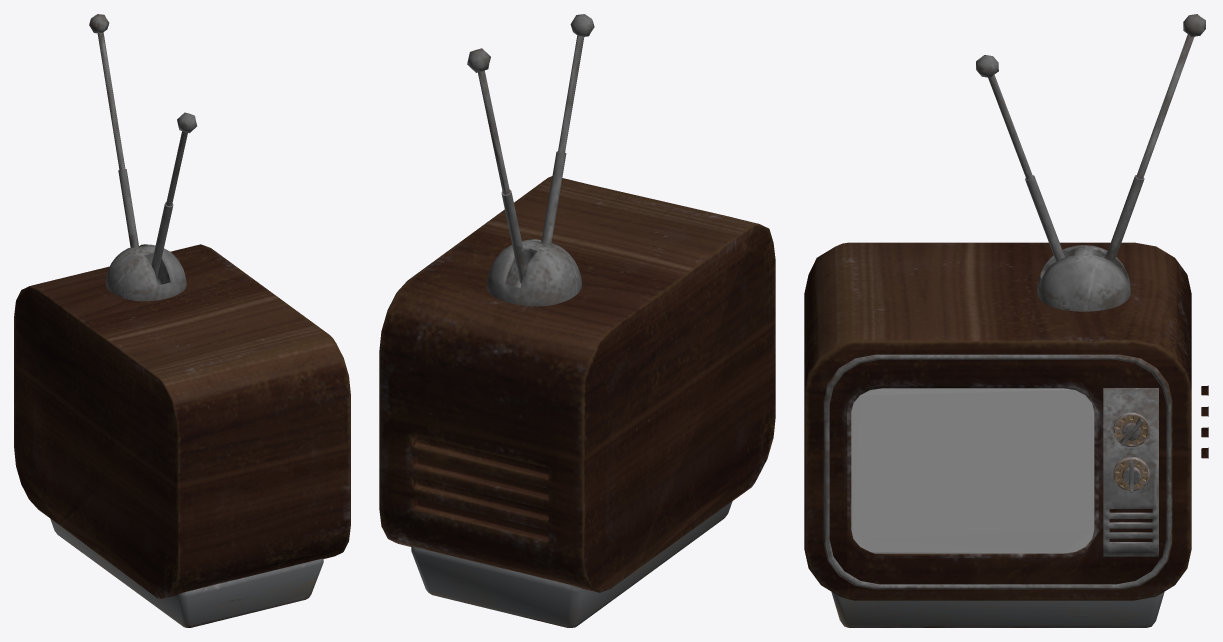
3 renders of one model, left to right at view 1: azimuth 30°, elevation 25°; view 2: azimuth 150°, elevation 25°; view 3: azimuth 270°, elevation 25°, orthographic. The views are drawn at different scales.
Parts seen in each view (by area): view 1: TV; view 2: TV; view 3: TV, Man.
Boxes of the visible parts, bbox=[...] form: TV: bbox=[14, 14, 350, 627]; TV: bbox=[379, 14, 775, 627]; TV: bbox=[804, 14, 1208, 627]; Man: bbox=[851, 388, 1094, 553].
Size of the model in its own units: 5935 by 15129 by 9611.
2 materials, 1 textured.
